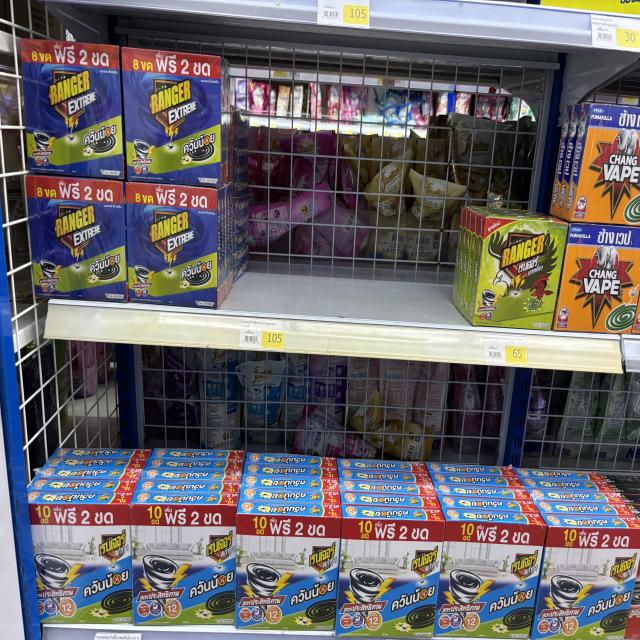empty_shelf: (32, 349, 635, 526), (222, 57, 474, 327), (478, 86, 573, 216)
